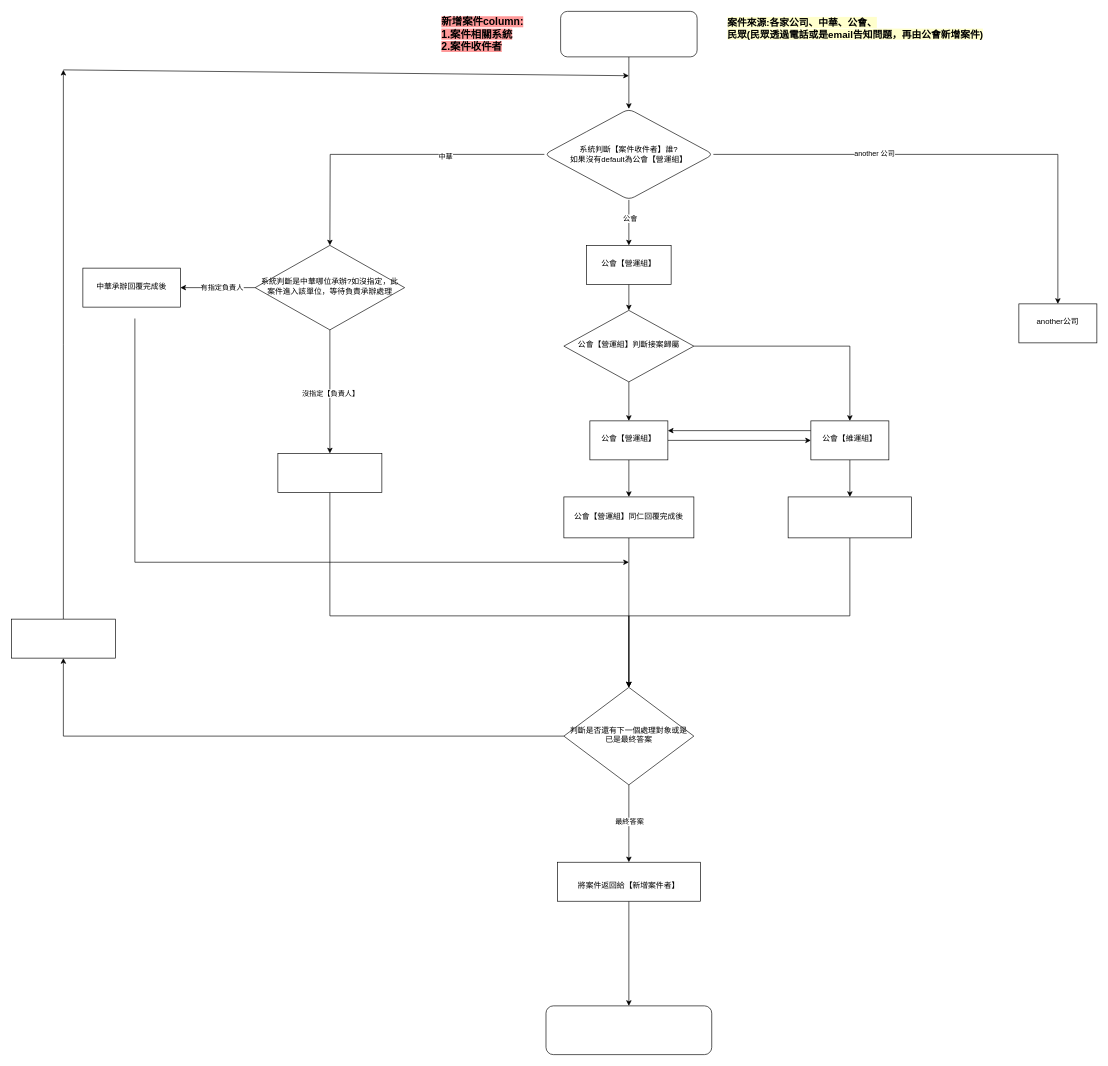
This 1108x1066 diagram has some shape labels left out. The centre of each missing label's shape, as x and y in pixels:
"【新增案件者】接收回覆，確認無誤後，由【新增案件者】按下結束按鈕，結束此案件。" goes at point 628,1030.
"中華各組承辦回覆完成後" goes at point 329,472.
"公會【維運組】同仁回覆完成後" goes at point 849,517.
"新案件進入" goes at point 628,34.
"案件傳給下一個【處理者】" goes at point 63,638.
